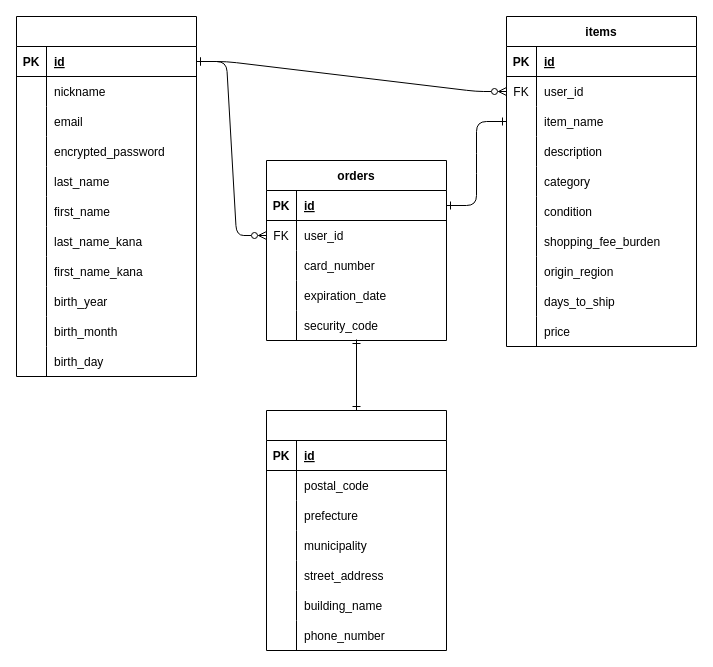
Some shapes in this 713 by 667 pixel diagram are drawn without their labels. The box of each missing label's shape, as (x1, y1, x2, y2) in pixels:
shopping_addresses: (266, 410, 446, 650)
users: (16, 16, 196, 376)
